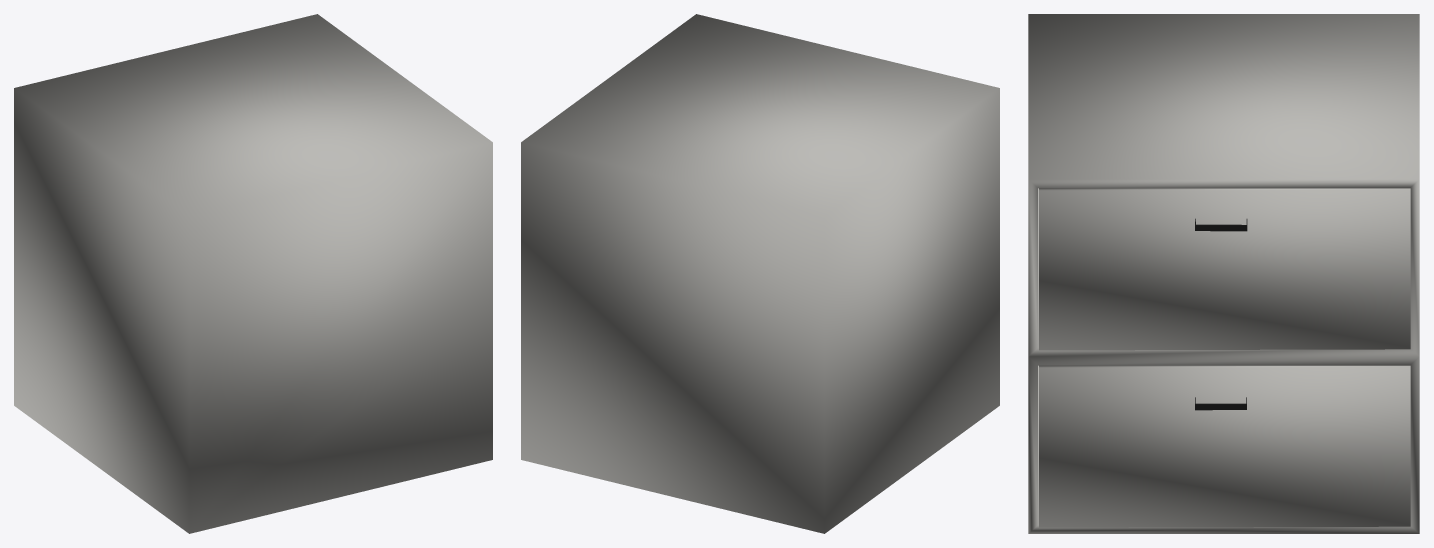
Rendered from BathroomDrawer.obj.
3 renders of one model, left to right at view 1: azimuth 30°, elevation 25°; view 2: azimuth 150°, elevation 25°; view 3: azimuth 270°, elevation 25°, orthographic. The views are drawn at different scales.
Visible parts, largest first — view 1: Box001; view 2: Box001; view 3: Object001, Box001.
Boxes of the visible parts, x1,y1,x2,y2 form: Box001: (14,14,492,533); Box001: (521,14,999,533); Object001: (1039,188,1410,527); Box001: (1028,14,1419,533).
Size of the model in its own units: 63.31 by 60 by 60.
